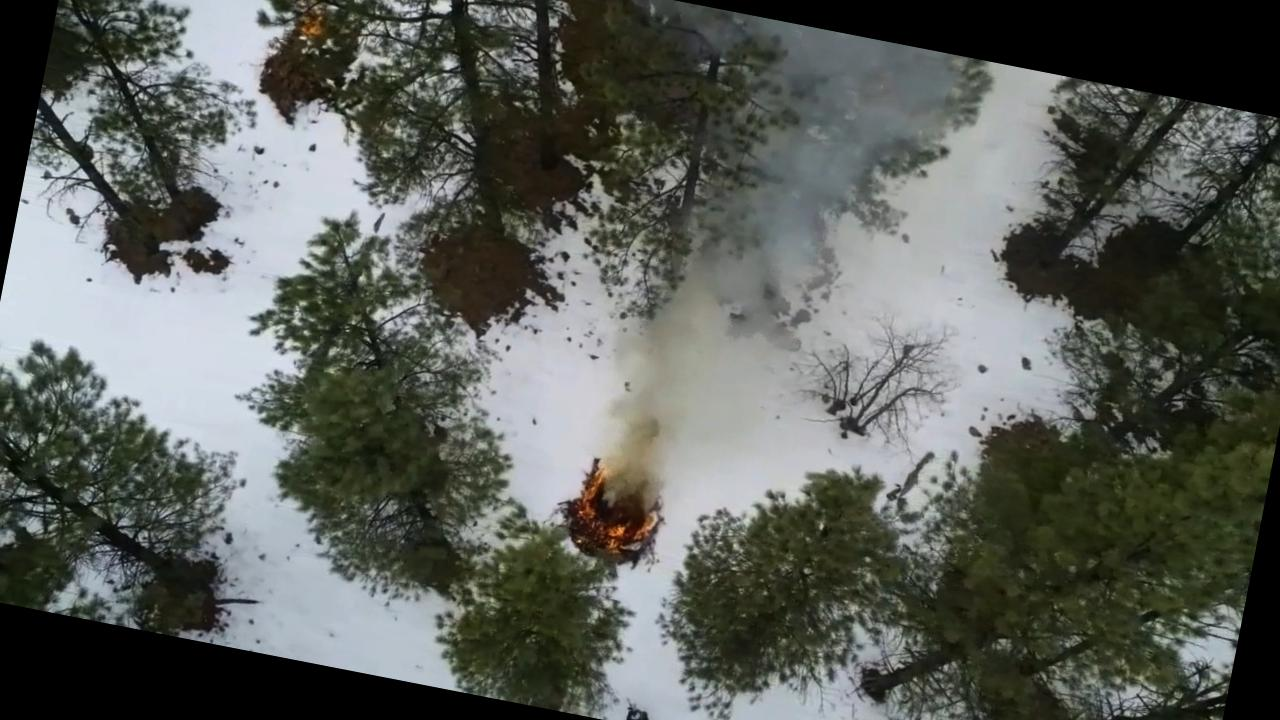fire: (553, 449, 665, 565)
smoke: (697, 10, 962, 213), (661, 170, 842, 340)
